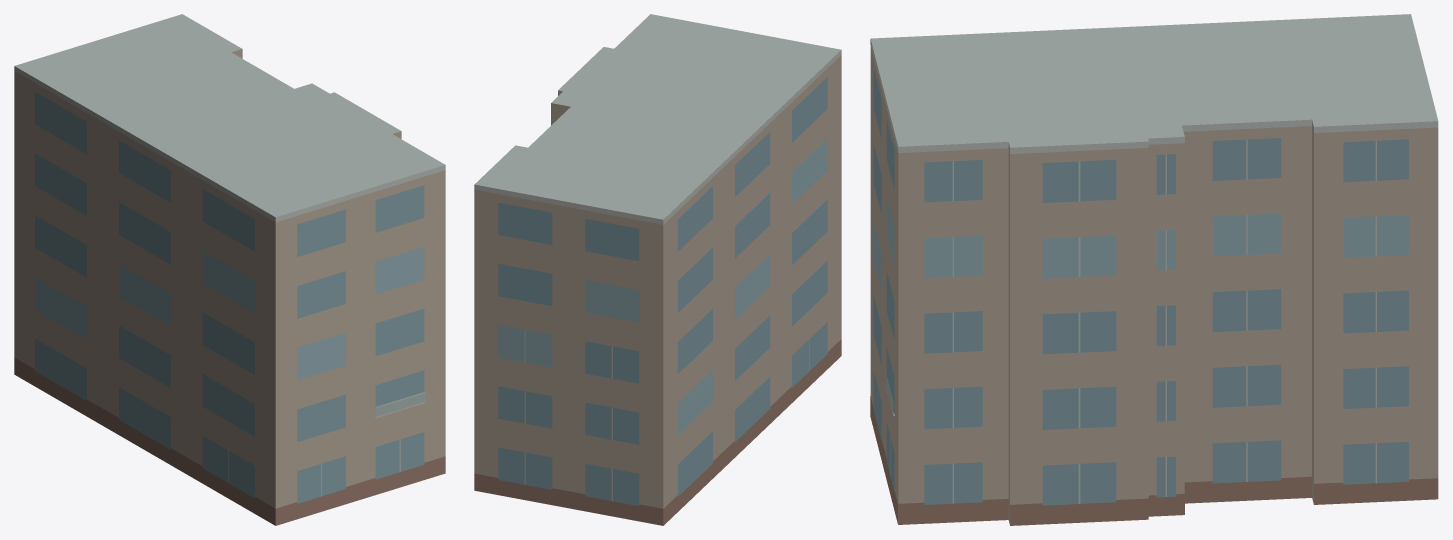
File: survey-upis-32617389.glb
3 renders of one model, left to right at view 1: azimuth 30°, elevation 25°; view 2: azimuth 150°, elevation 25°; view 3: azimuth 270°, elevation 25°, orthographic. The views are drawn at different scales.
Visible parts, largest first — view 1: survey-upis-32617389.tmp; view 2: survey-upis-32617389.tmp; view 3: survey-upis-32617389.tmp.
Part boxes in pixels (x1,y1,x2,y2): survey-upis-32617389.tmp: (14,14,445,525); survey-upis-32617389.tmp: (474,14,841,525); survey-upis-32617389.tmp: (870,14,1438,525).
Size of the model in its own units: 11.17 by 14.7 by 20.02.
